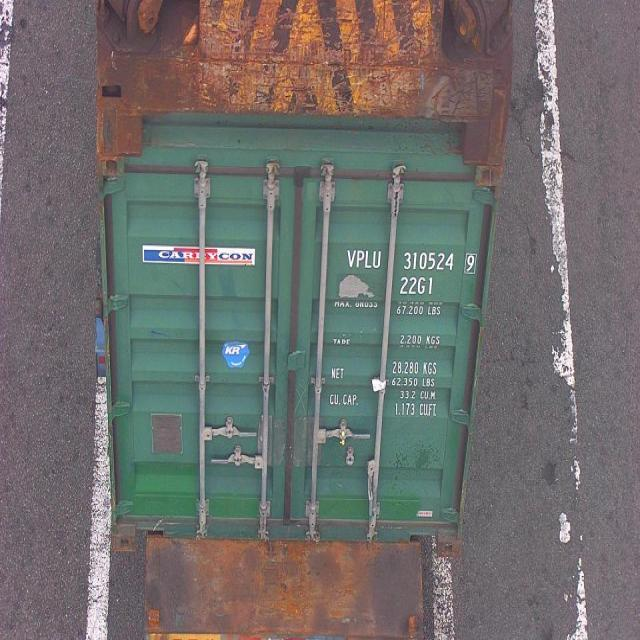ISO: (401, 273, 435, 298)
container_number: (345, 241, 479, 278)
